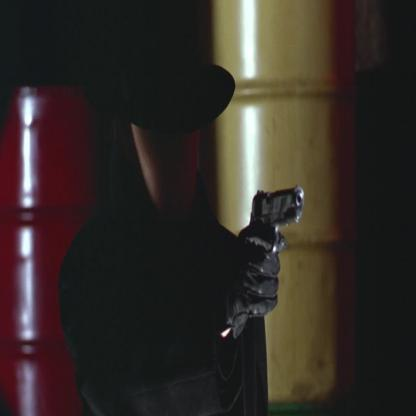gun: (239, 172, 318, 267)
